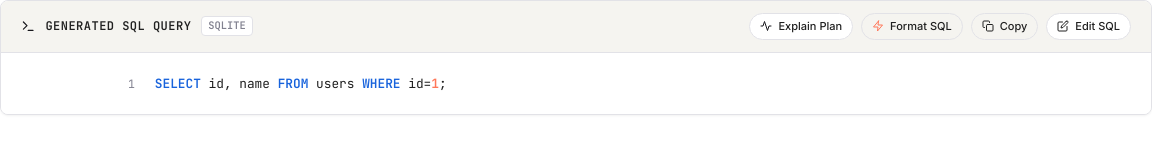
it: SqlViewer Component › formats SQL and displays toast confirmation when Format SQL is clicked
Click the button "Format SQL".
click(912, 26)  # box x1=861 y1=13 x2=963 y2=40
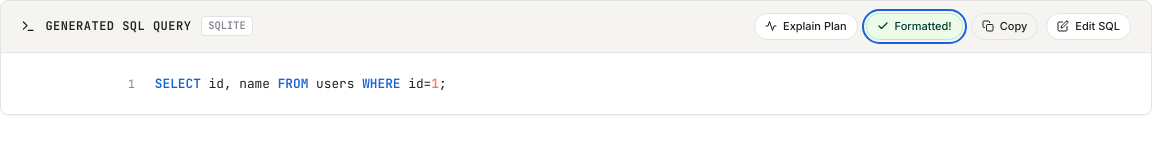
Expected: the text "Formatted!" is shown, x1=895 y1=18 x2=952 y2=34
